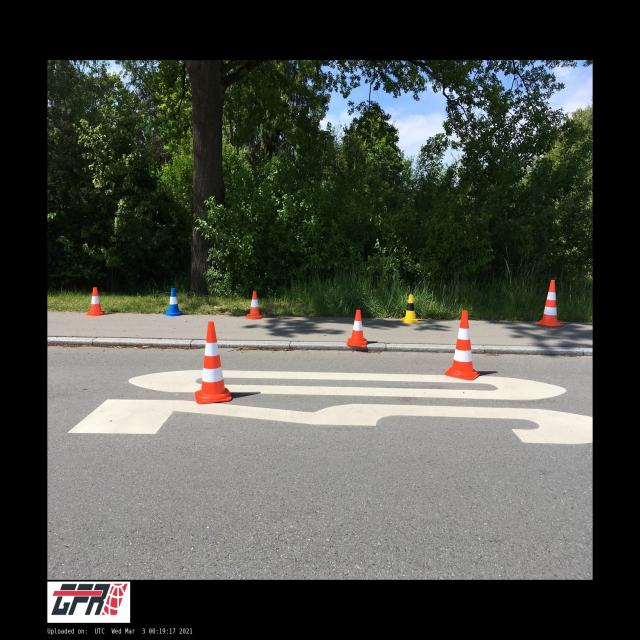blue_cone: (164, 288, 183, 316)
large_orange_cone: (195, 321, 231, 404), (445, 310, 480, 380), (536, 280, 563, 326)
orange_cone: (346, 310, 368, 348), (245, 290, 263, 320), (86, 287, 104, 316)
yellow_cone: (400, 294, 420, 324)
